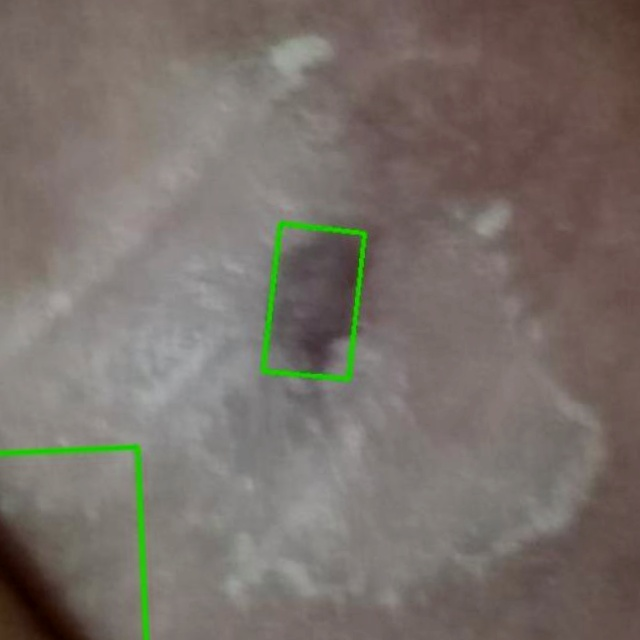Tinea Corporis: (264, 224, 365, 380)
